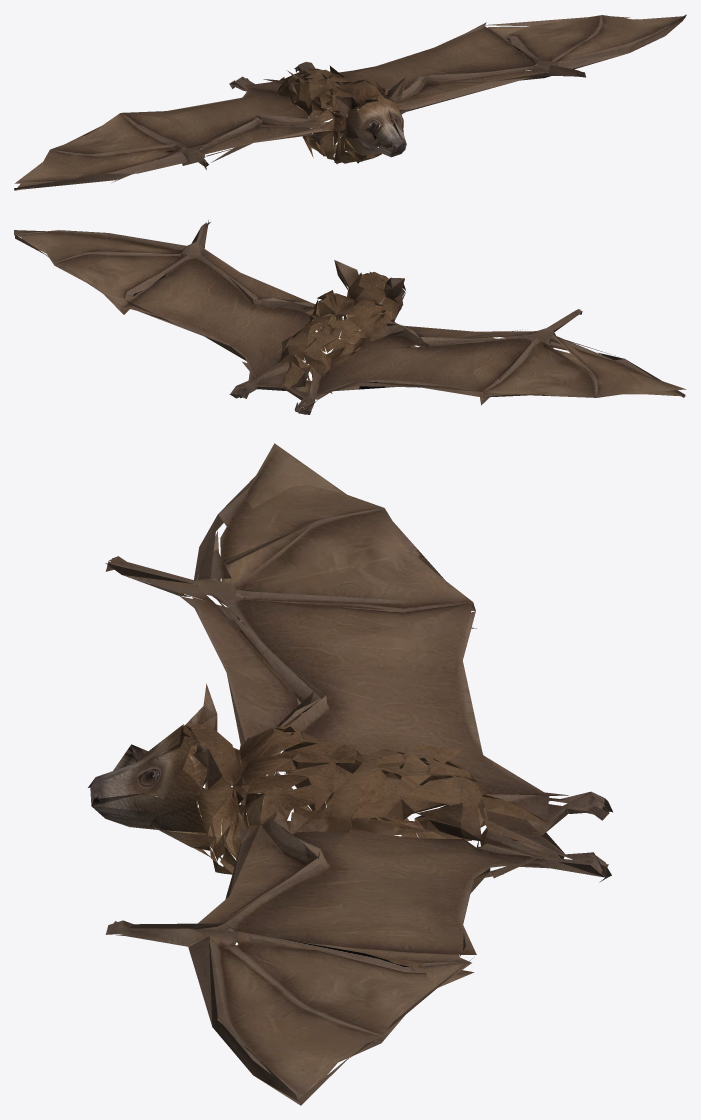
The model's file is flying-fox.glb.
3 renders of one model, top to bottom at view 1: azimuth 30°, elevation 25°; view 2: azimuth 150°, elevation 25°; view 3: azimuth 270°, elevation 25°, orthographic. The views are drawn at different scales.
Parts seen in each view (by area): view 1: output_unwrapped; view 2: output_unwrapped; view 3: output_unwrapped.
Boxes of the visible parts, x1,y1,x2,y2 form: output_unwrapped: (14, 14, 686, 190); output_unwrapped: (14, 220, 686, 414); output_unwrapped: (88, 443, 612, 1105).
Bounding box in the file's own units: 1.3 × 0.173 × 0.4441.
Materials: 1 (1 with a texture image).
